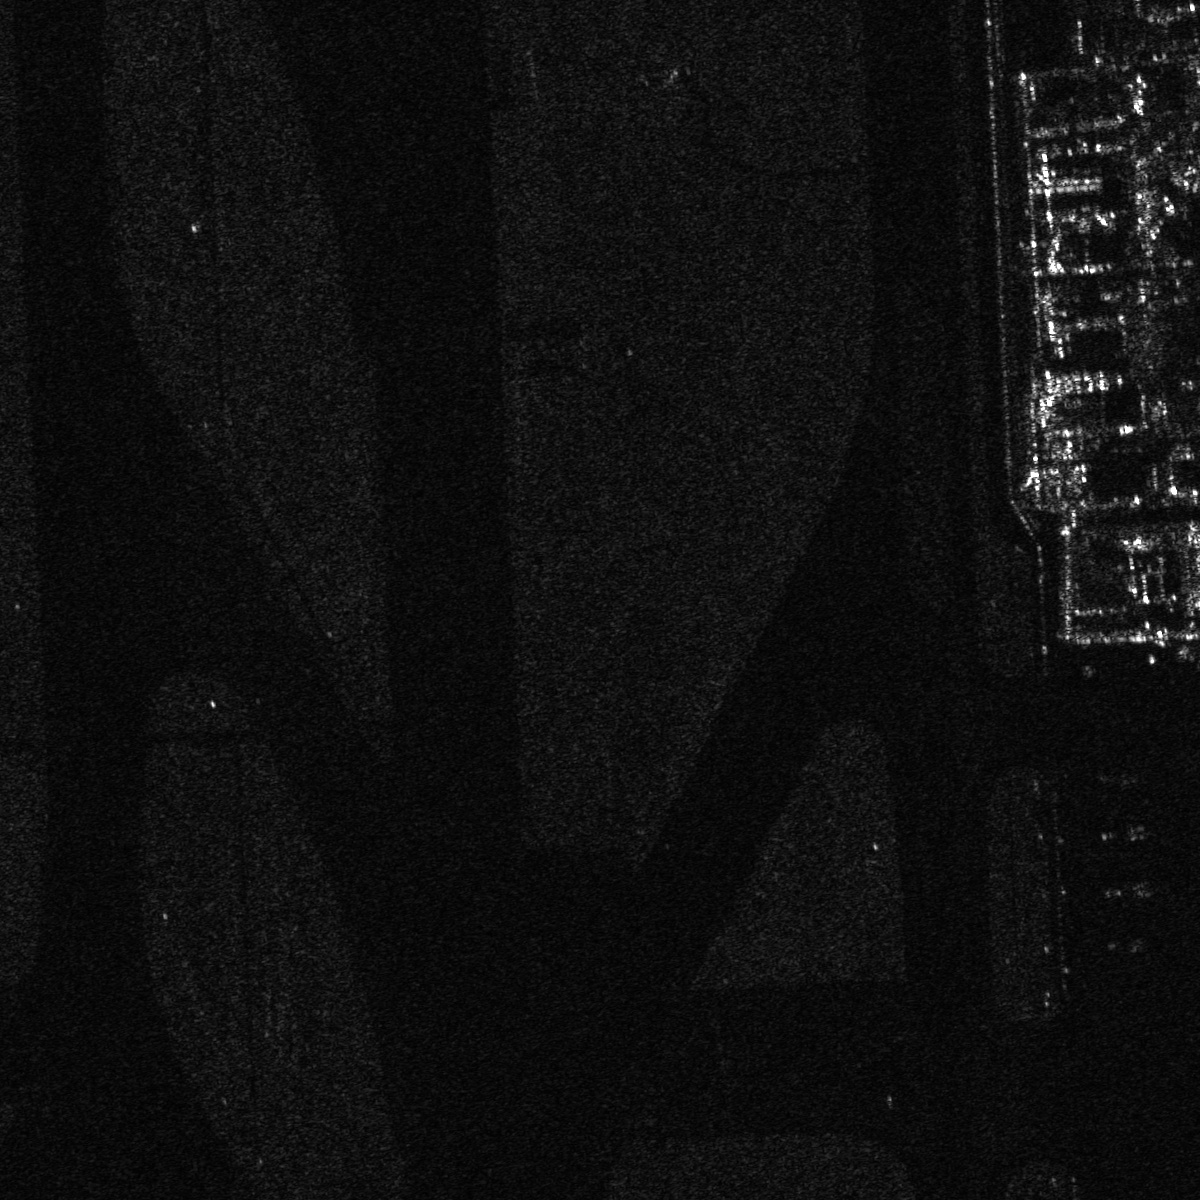ARJ21: (1096, 873, 1162, 913), (1102, 927, 1156, 958)
other: (1095, 814, 1153, 857)
